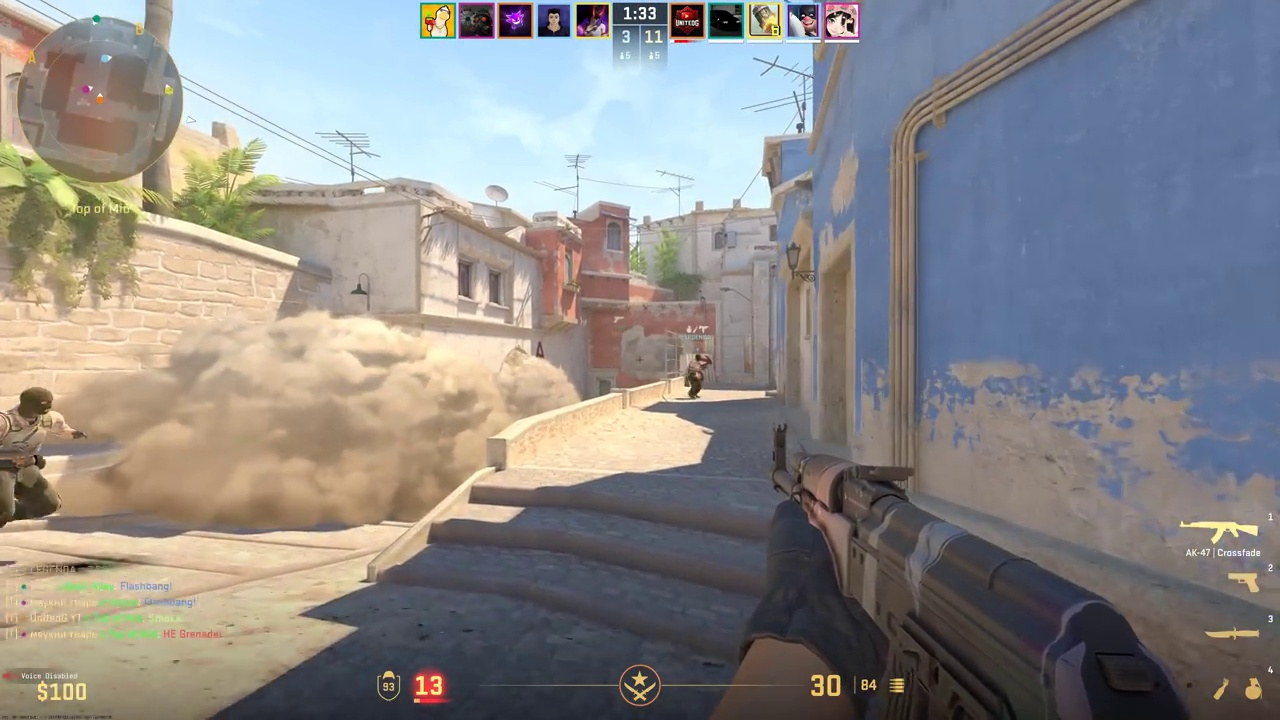Terrorist: (0, 387, 66, 551), (688, 354, 704, 398)
